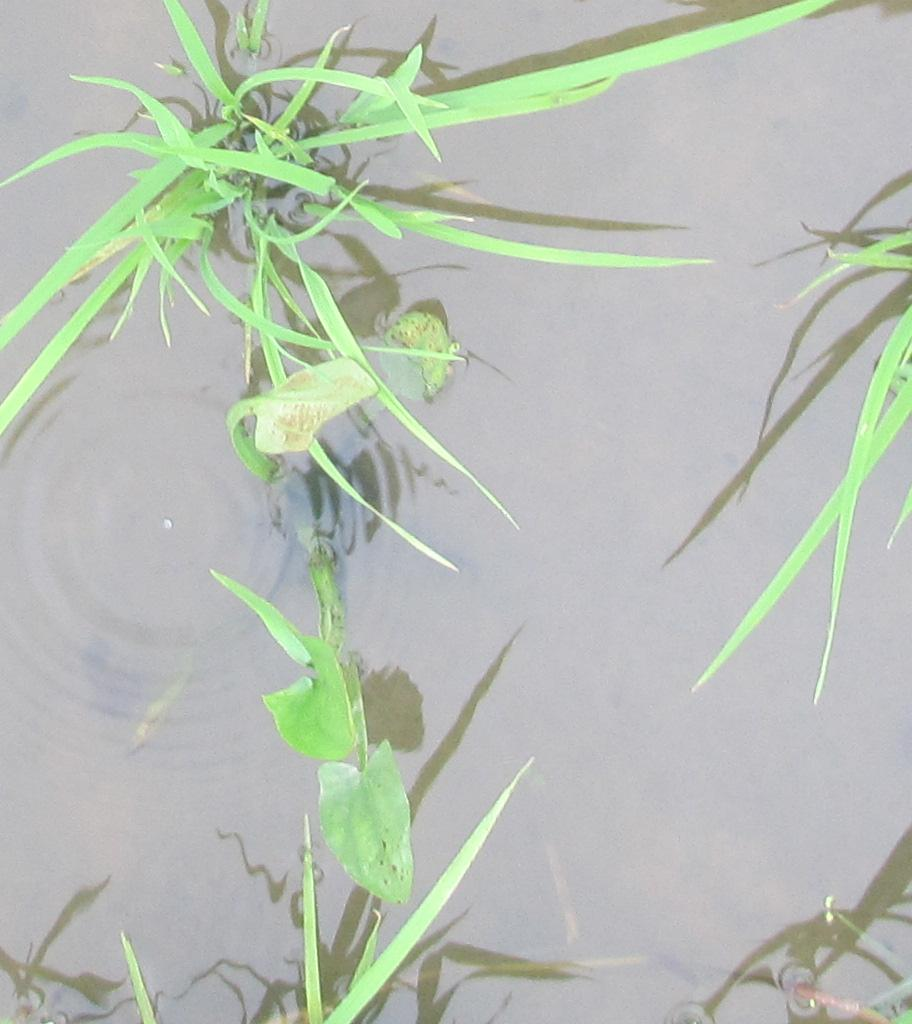Weed: (246, 621, 433, 897), (221, 305, 480, 492)
